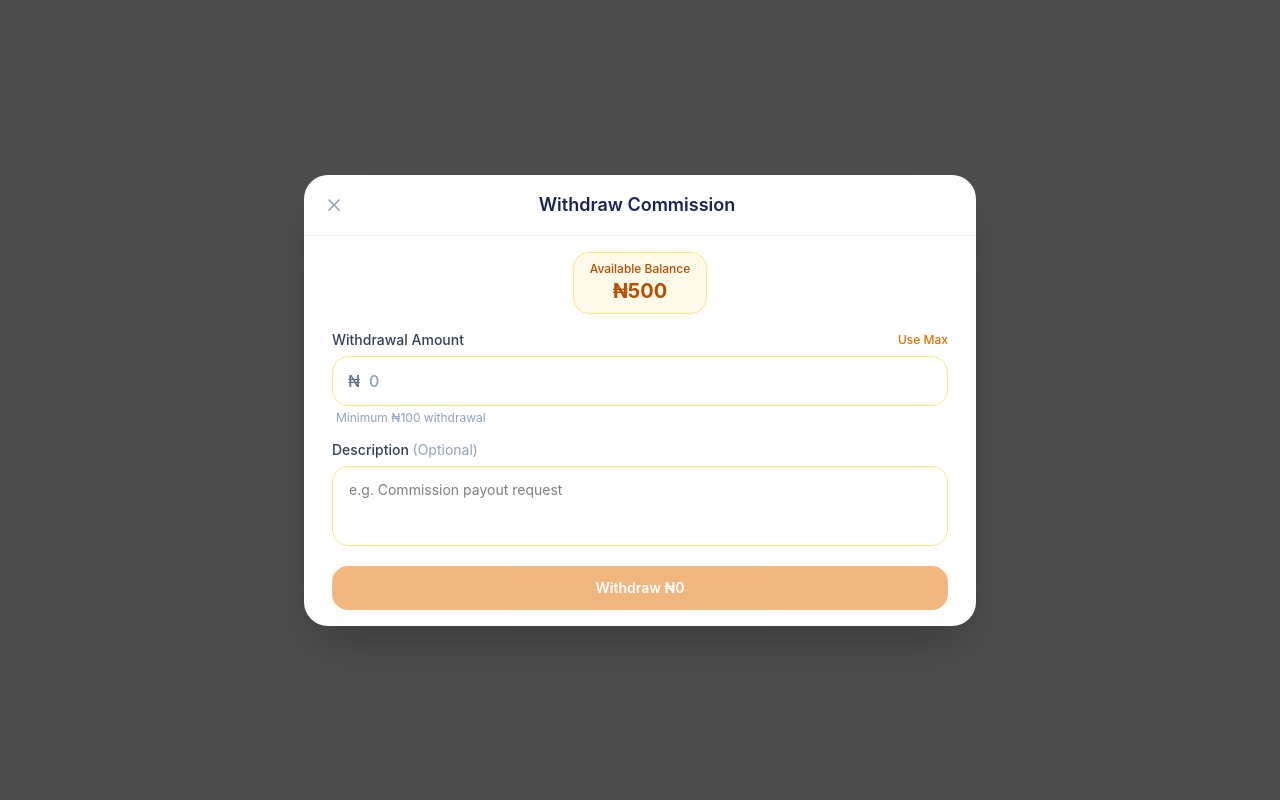
Scenario: withdrawal flows › AgentWithdrawModal › shows error message on API failure
The width and height of the screenshot is (1280, 800).
Step 1. Type "200" into the number field with placeholder "0" → (640, 380), box [332,356,948,406]
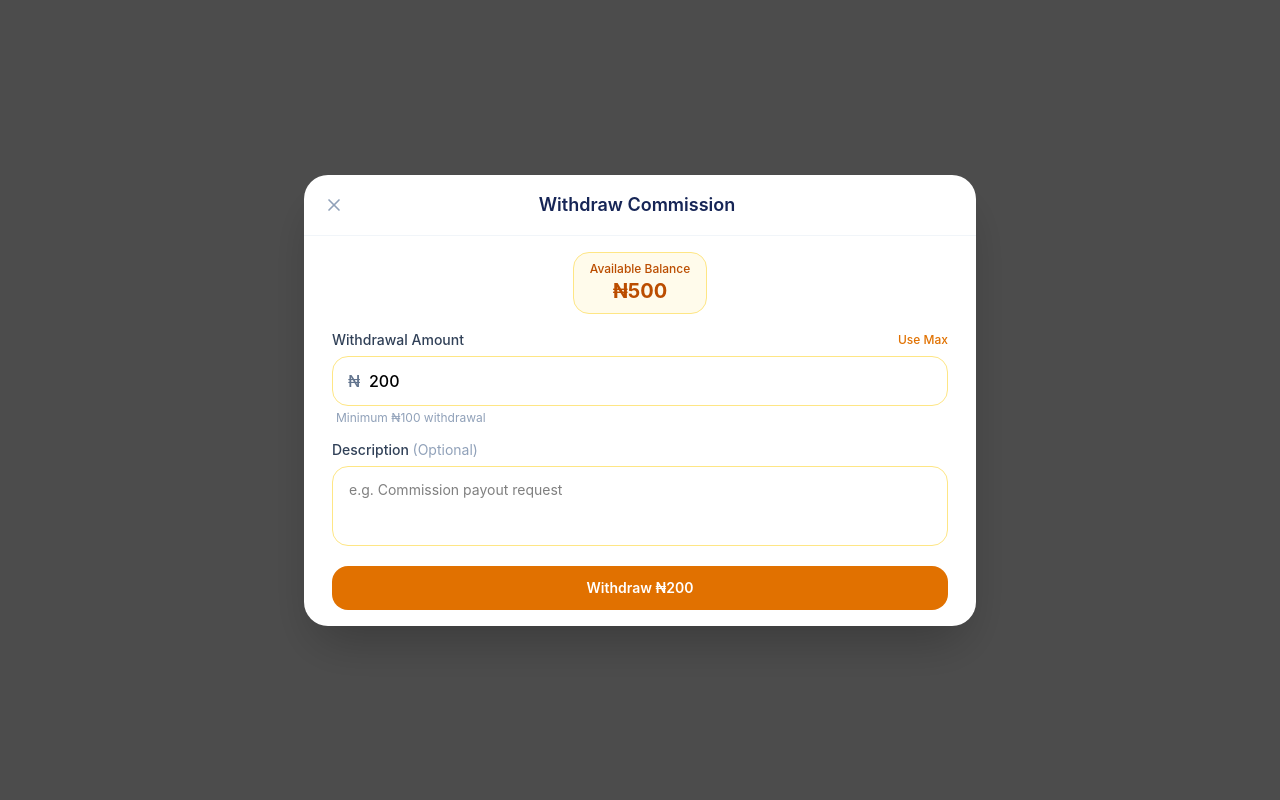
Step 2. Click the button "Withdraw ₦200" → (640, 588), box [332,566,948,610]
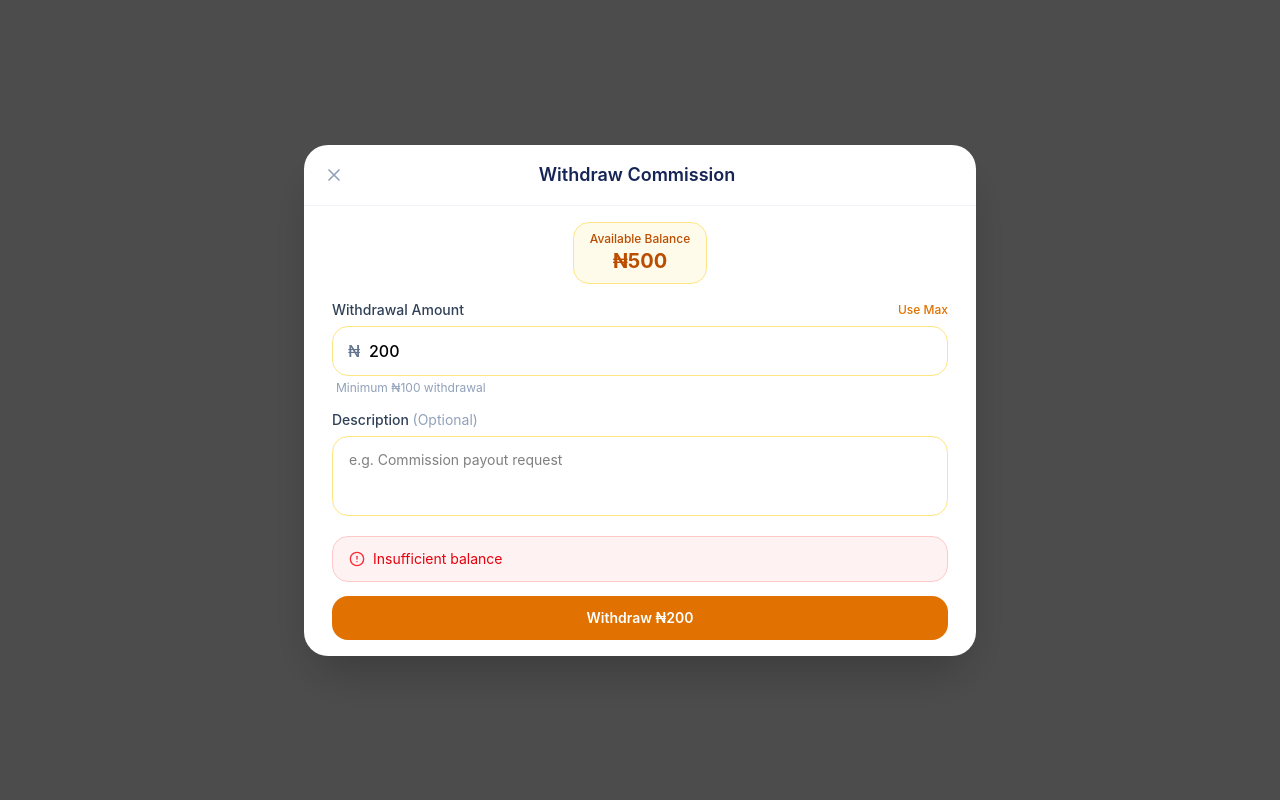
Now the text "Insufficient balance" is shown, box [373,548,502,568]
